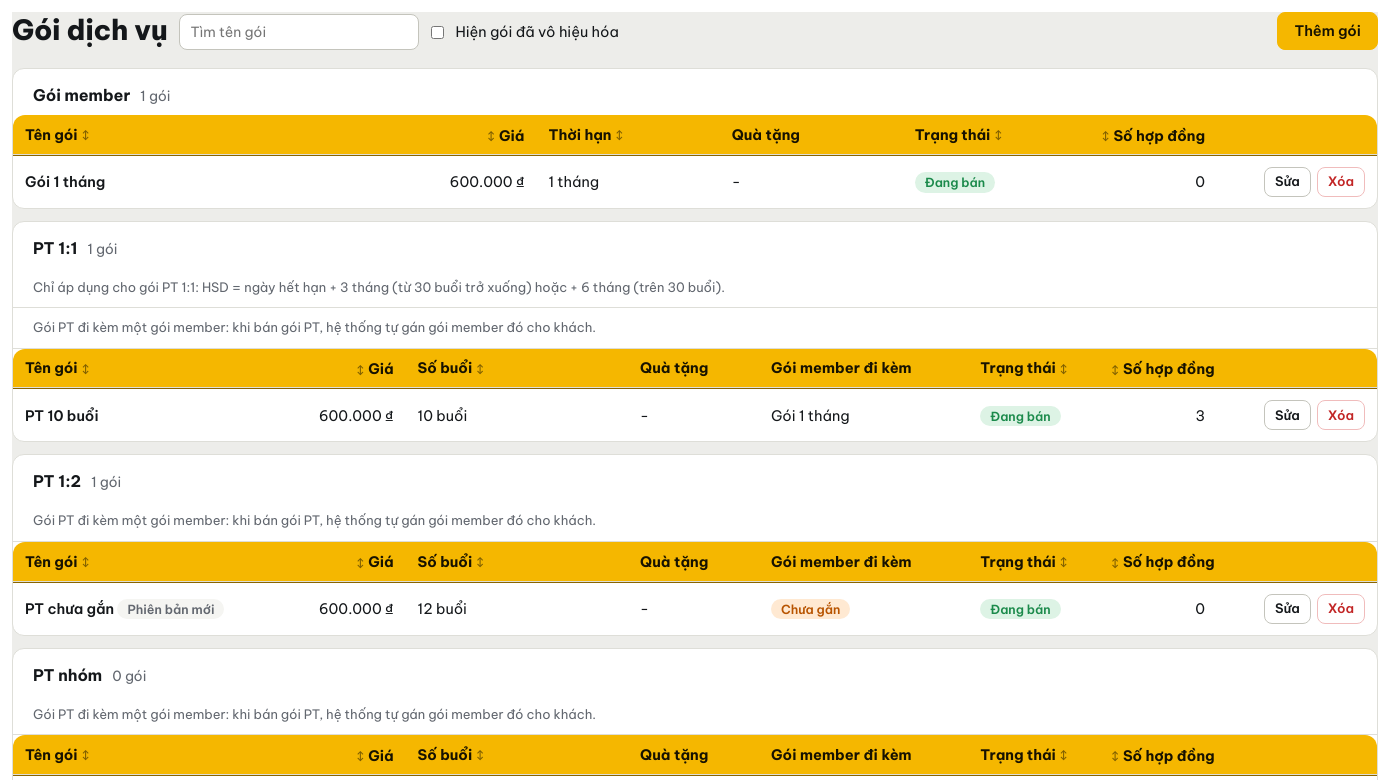
Test case: Packages page › inactive toggle shows muted packages
Check: the text "Gói cũ" is not shown
What coordinates should you click on to do the following:
click the checkbox labelled "Hiện gói đã vô hiệu hóa"
I would click on:
 (438, 32)
Its box is [431,26,444,38].
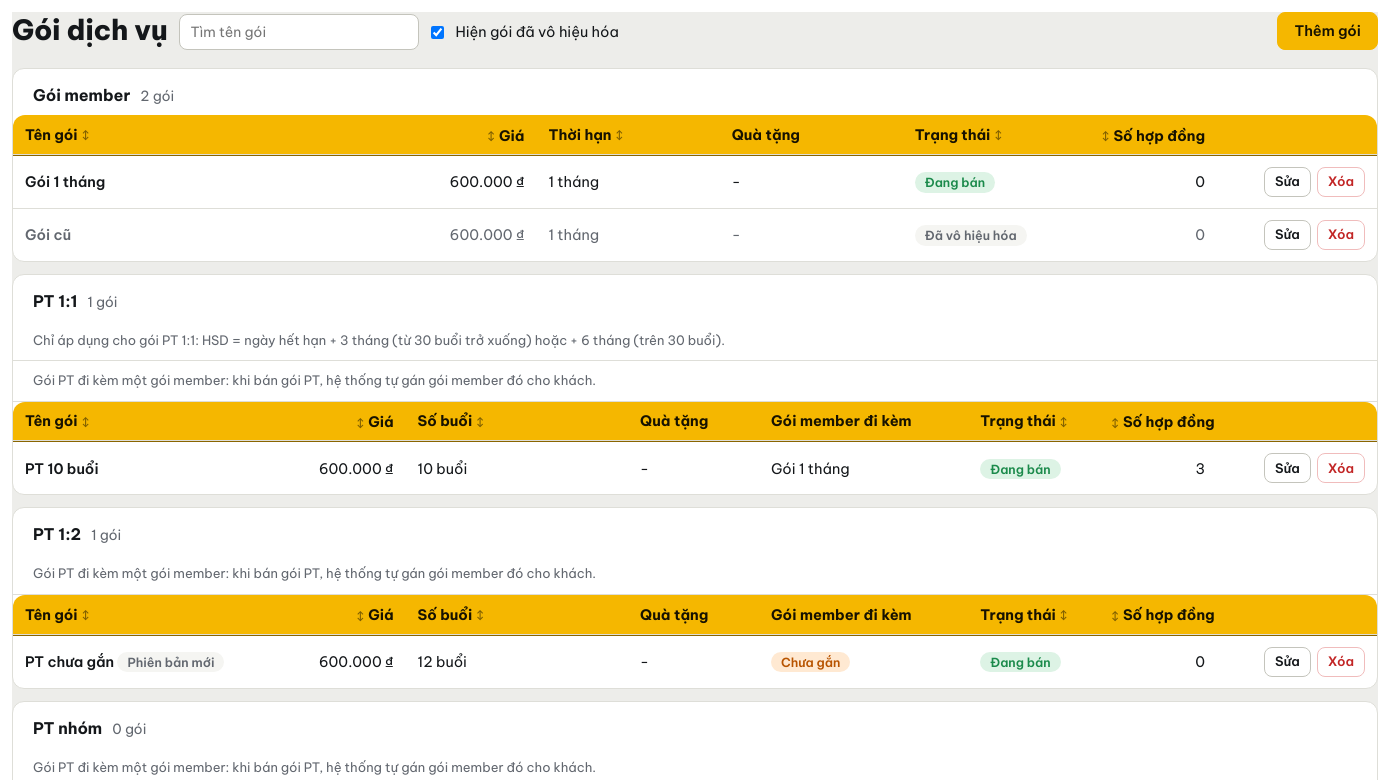
Check: the text "Gói cũ" is shown, box [25,225,71,244]
